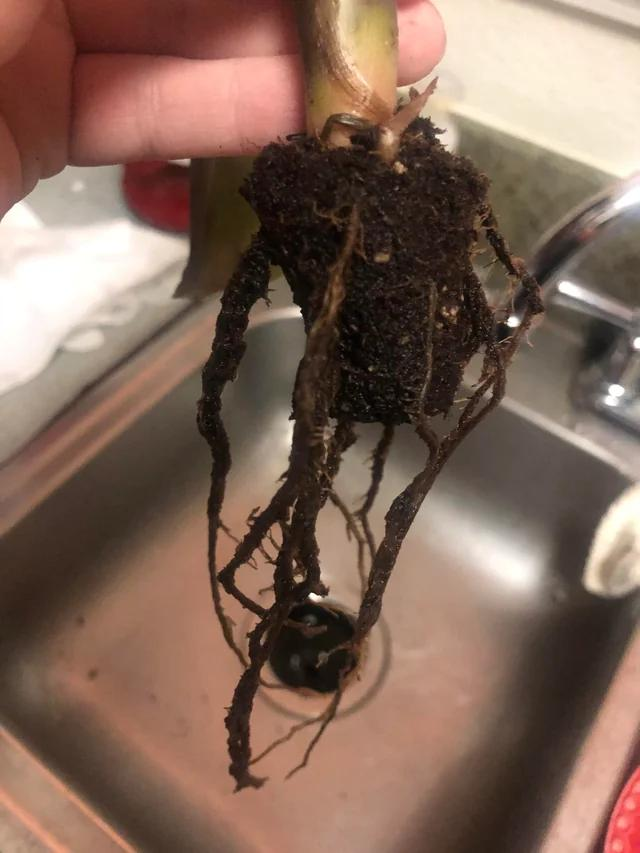root_rot: (120, 112, 515, 775)
